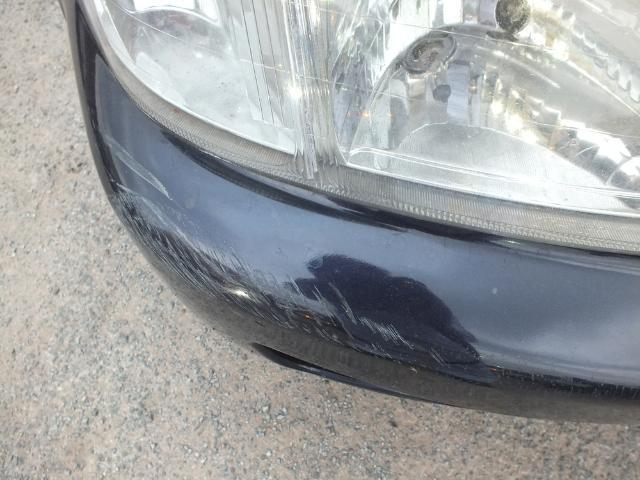scratch: (94, 124, 498, 379)
